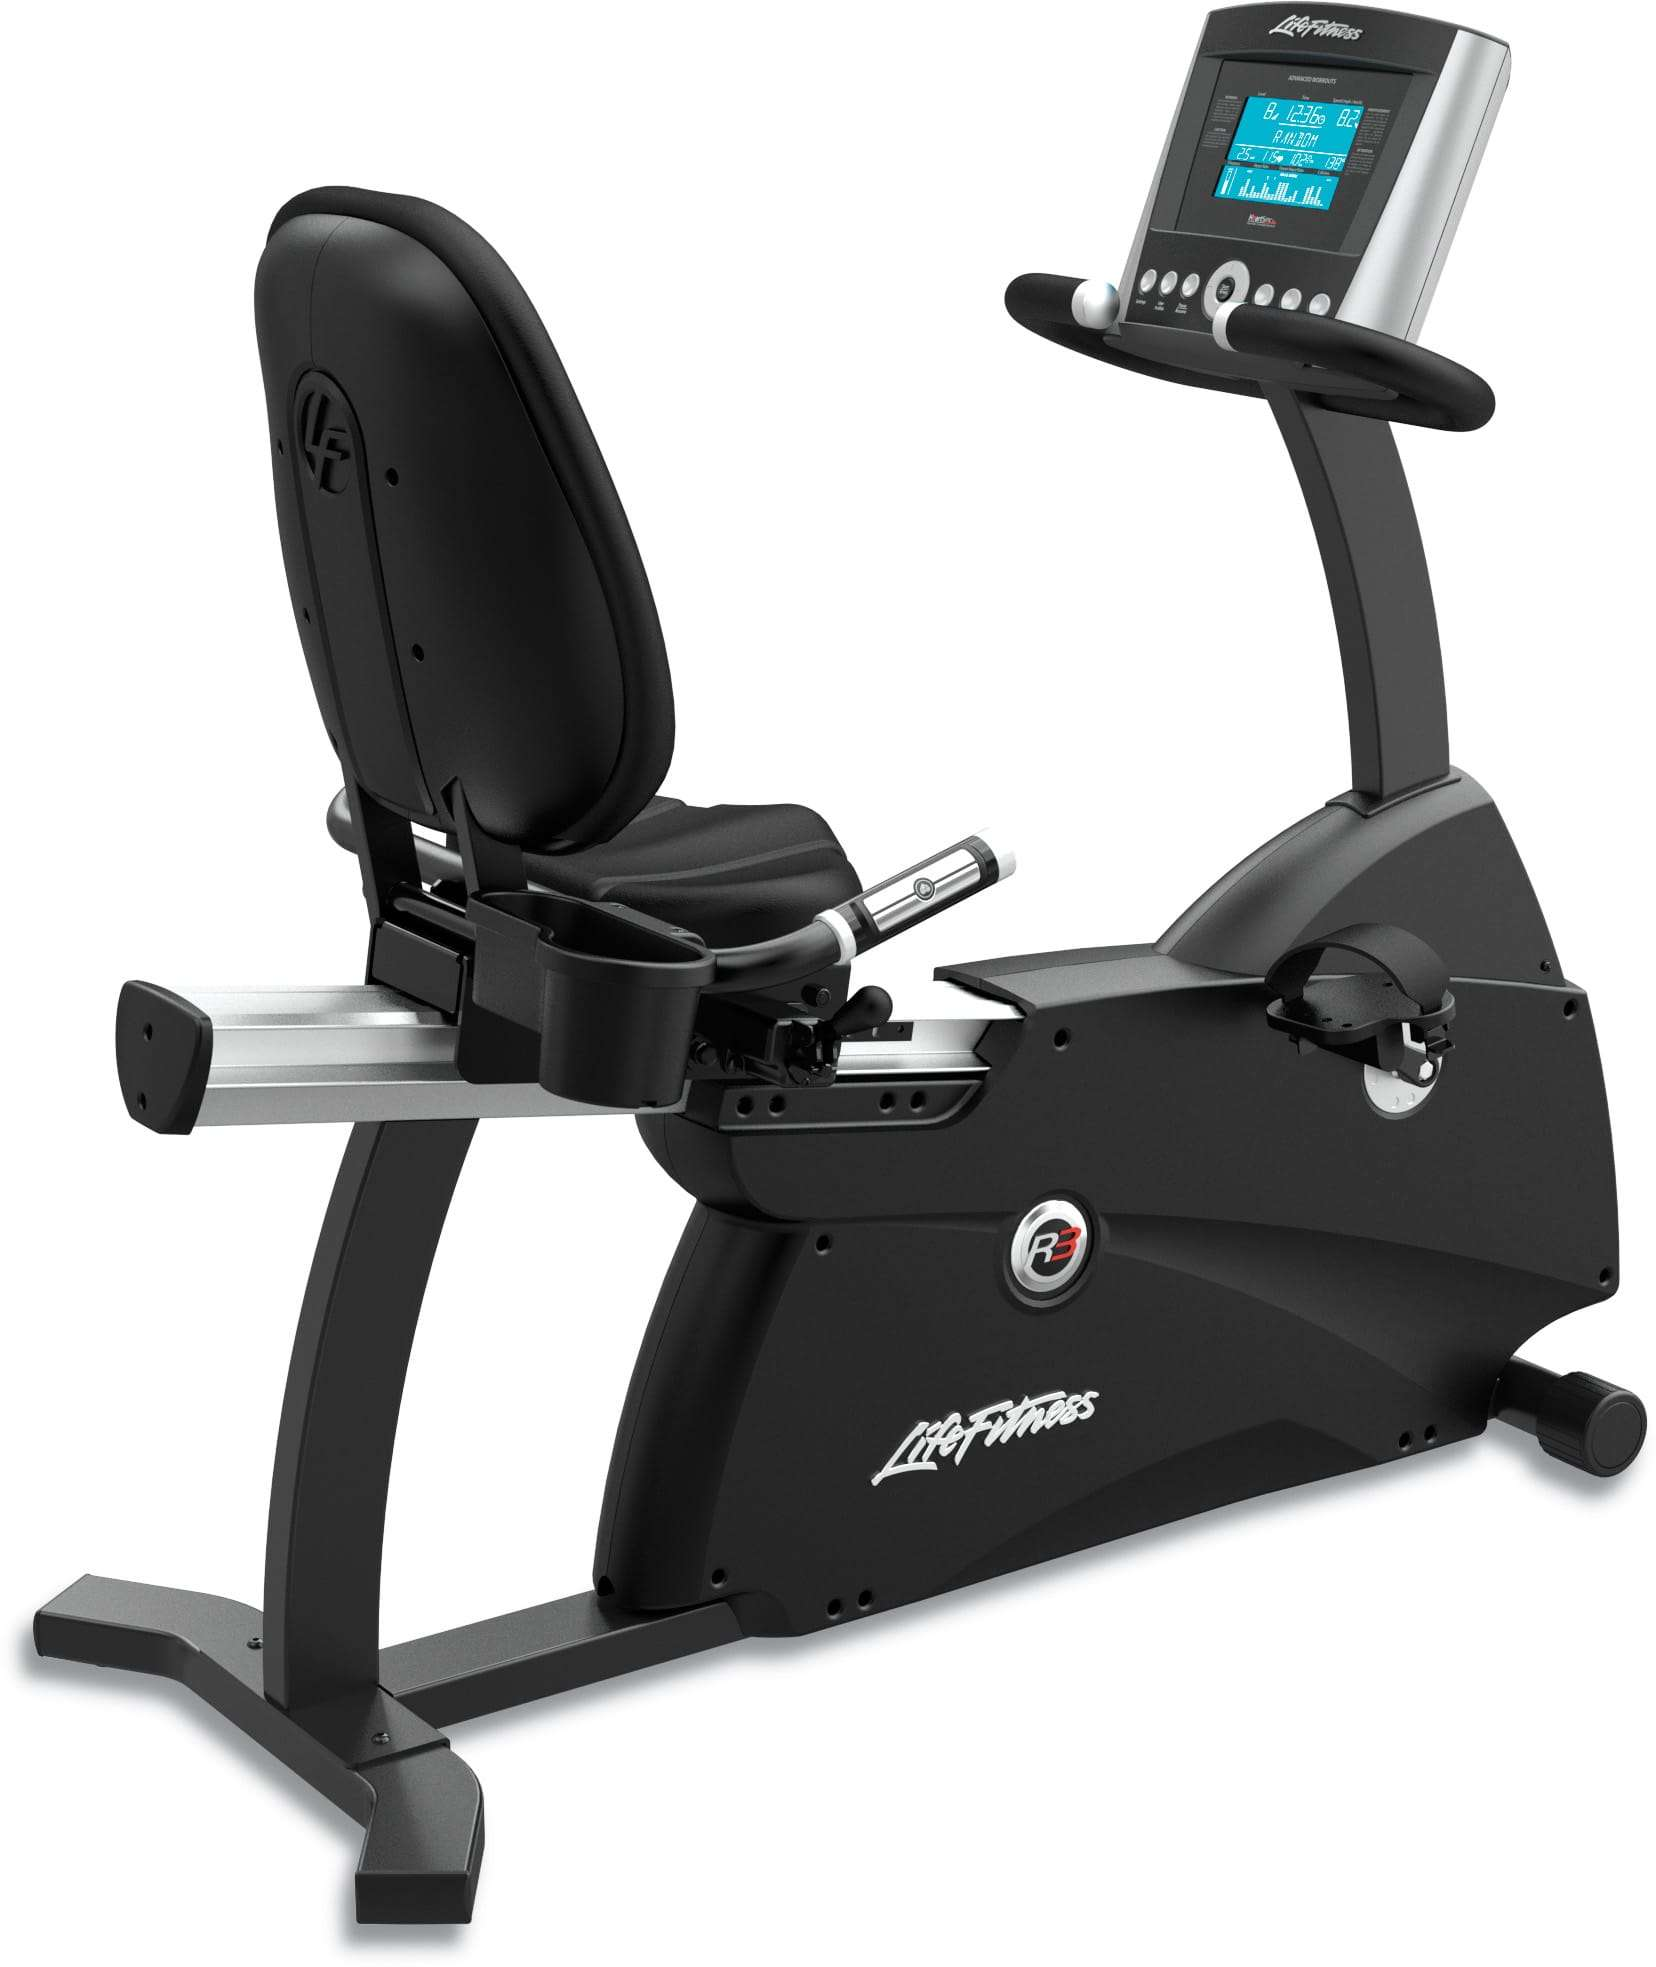gym_bike: (85, 8, 1630, 1914)
